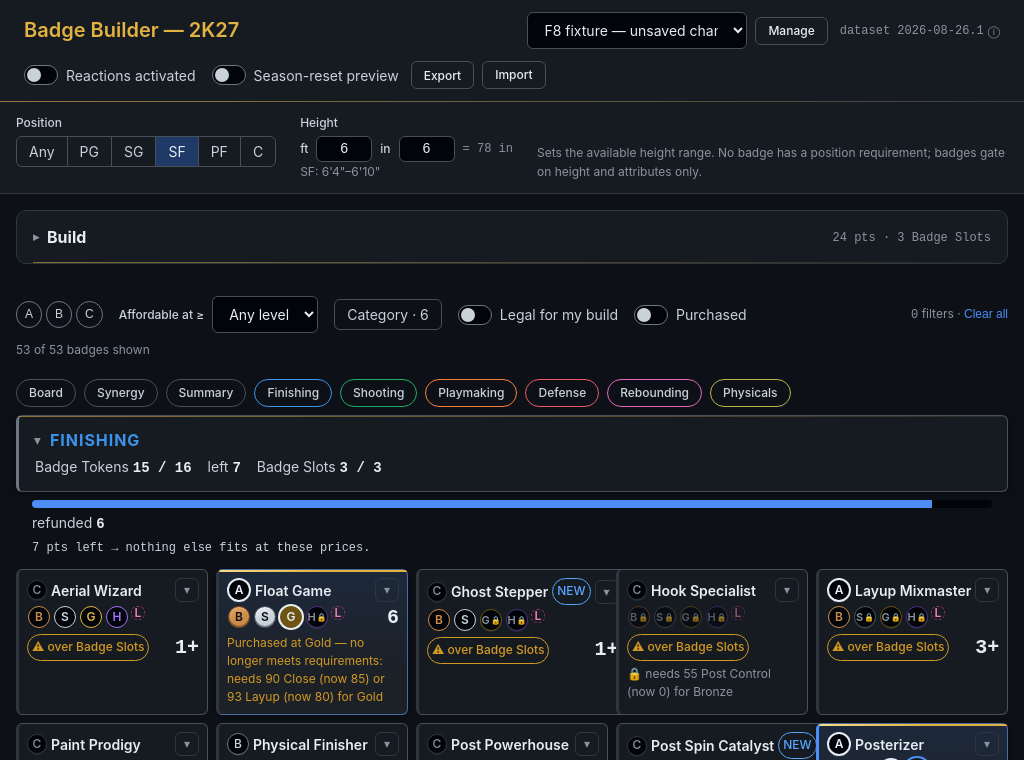
Test case: H2 — the roster is byte-identical under every overlay combination › PROOF THE TOGGLES DID SOMETHING — the invariance is not vacuous
This screenshot has width=1024, height=760.
Click the switch labelled "Reactions activated" at x=110, y=75, box [24,64,196,86]
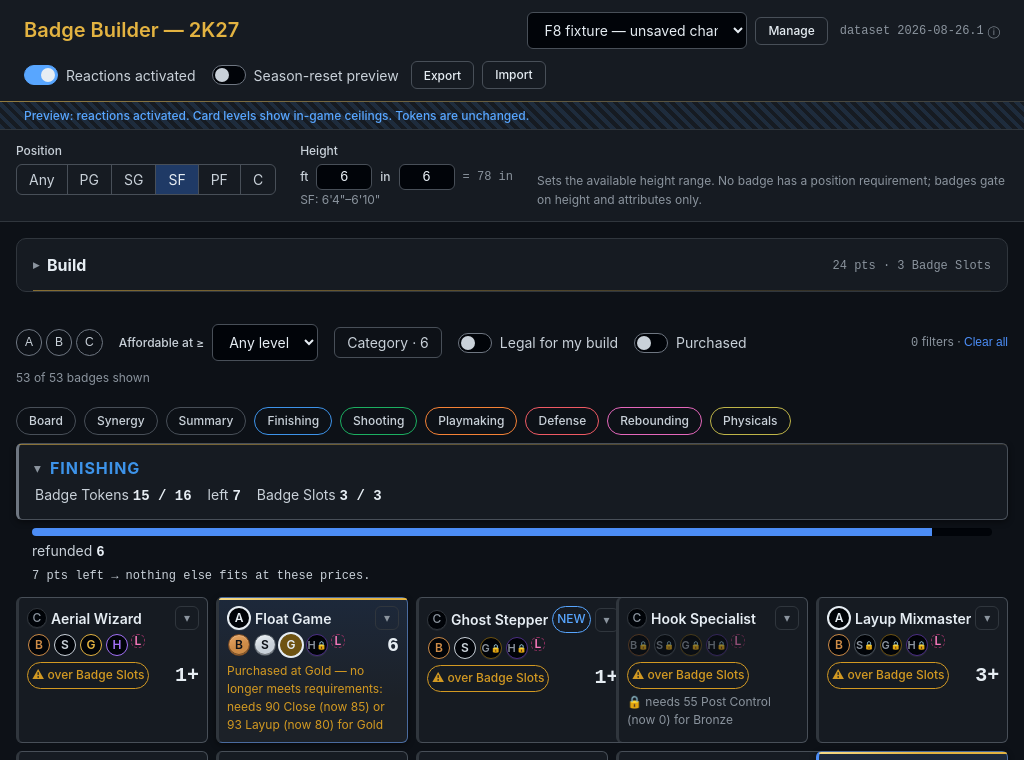
Click the switch labelled "Reactions activated" at x=110, y=75, box [24,64,196,86]
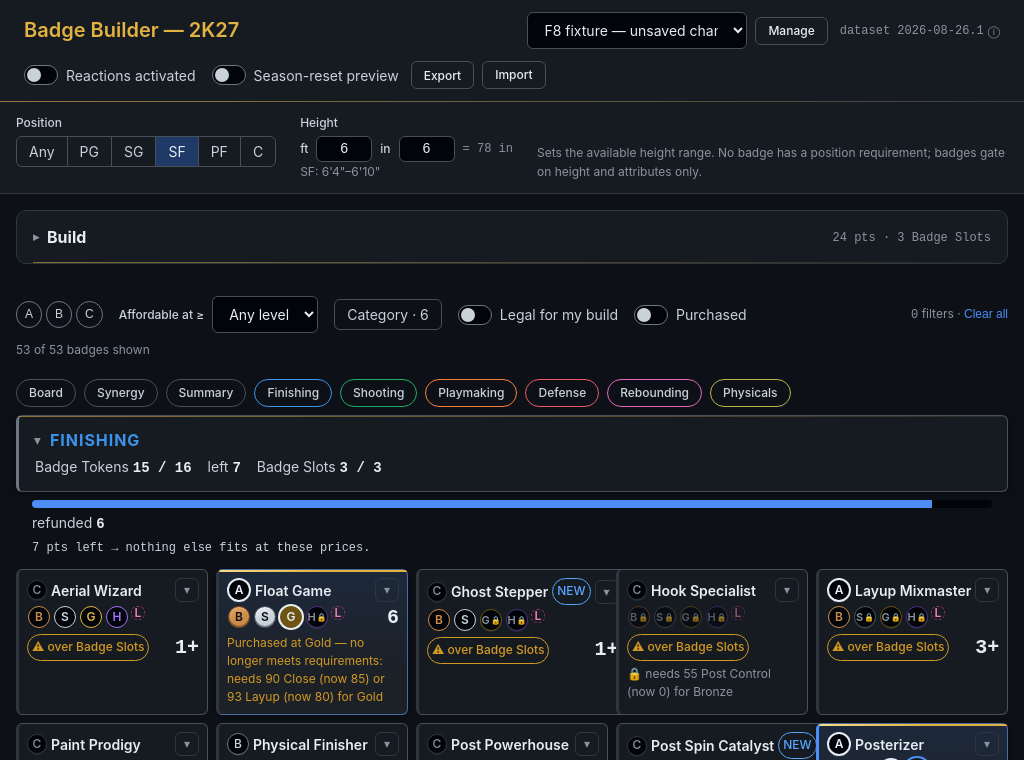
Click the switch labelled "Season-reset preview" at x=305, y=75, box [212,64,399,86]
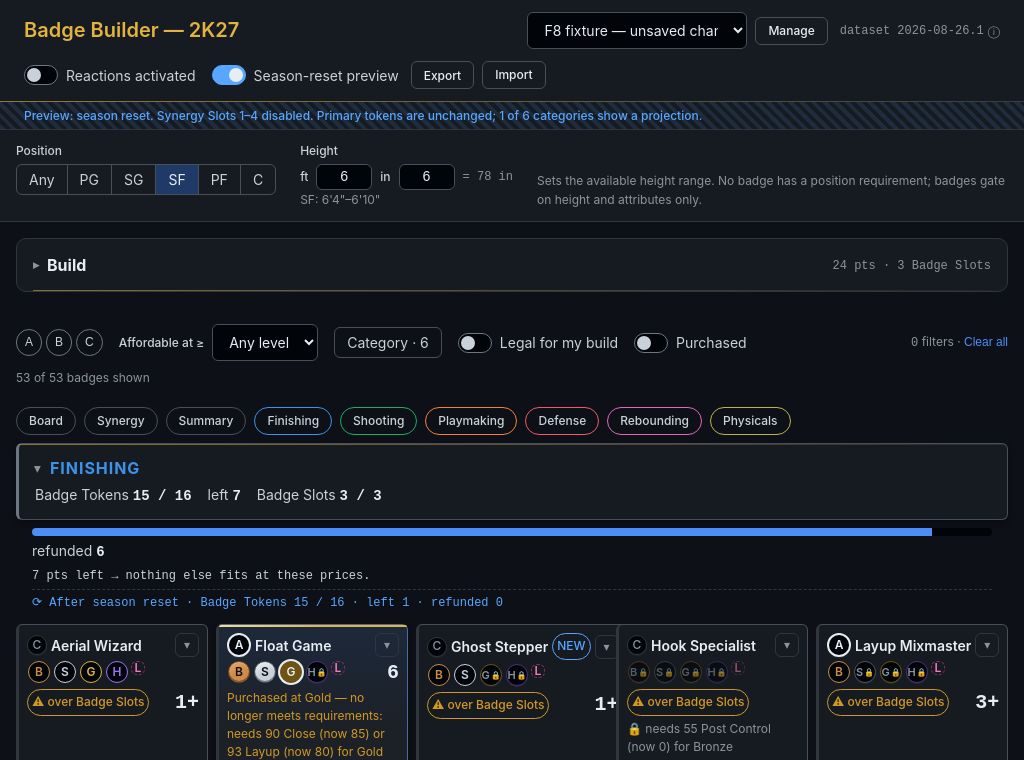
Now the text with class "category-ledger__projection" shows "After season reset", box [32,596,294,610]
